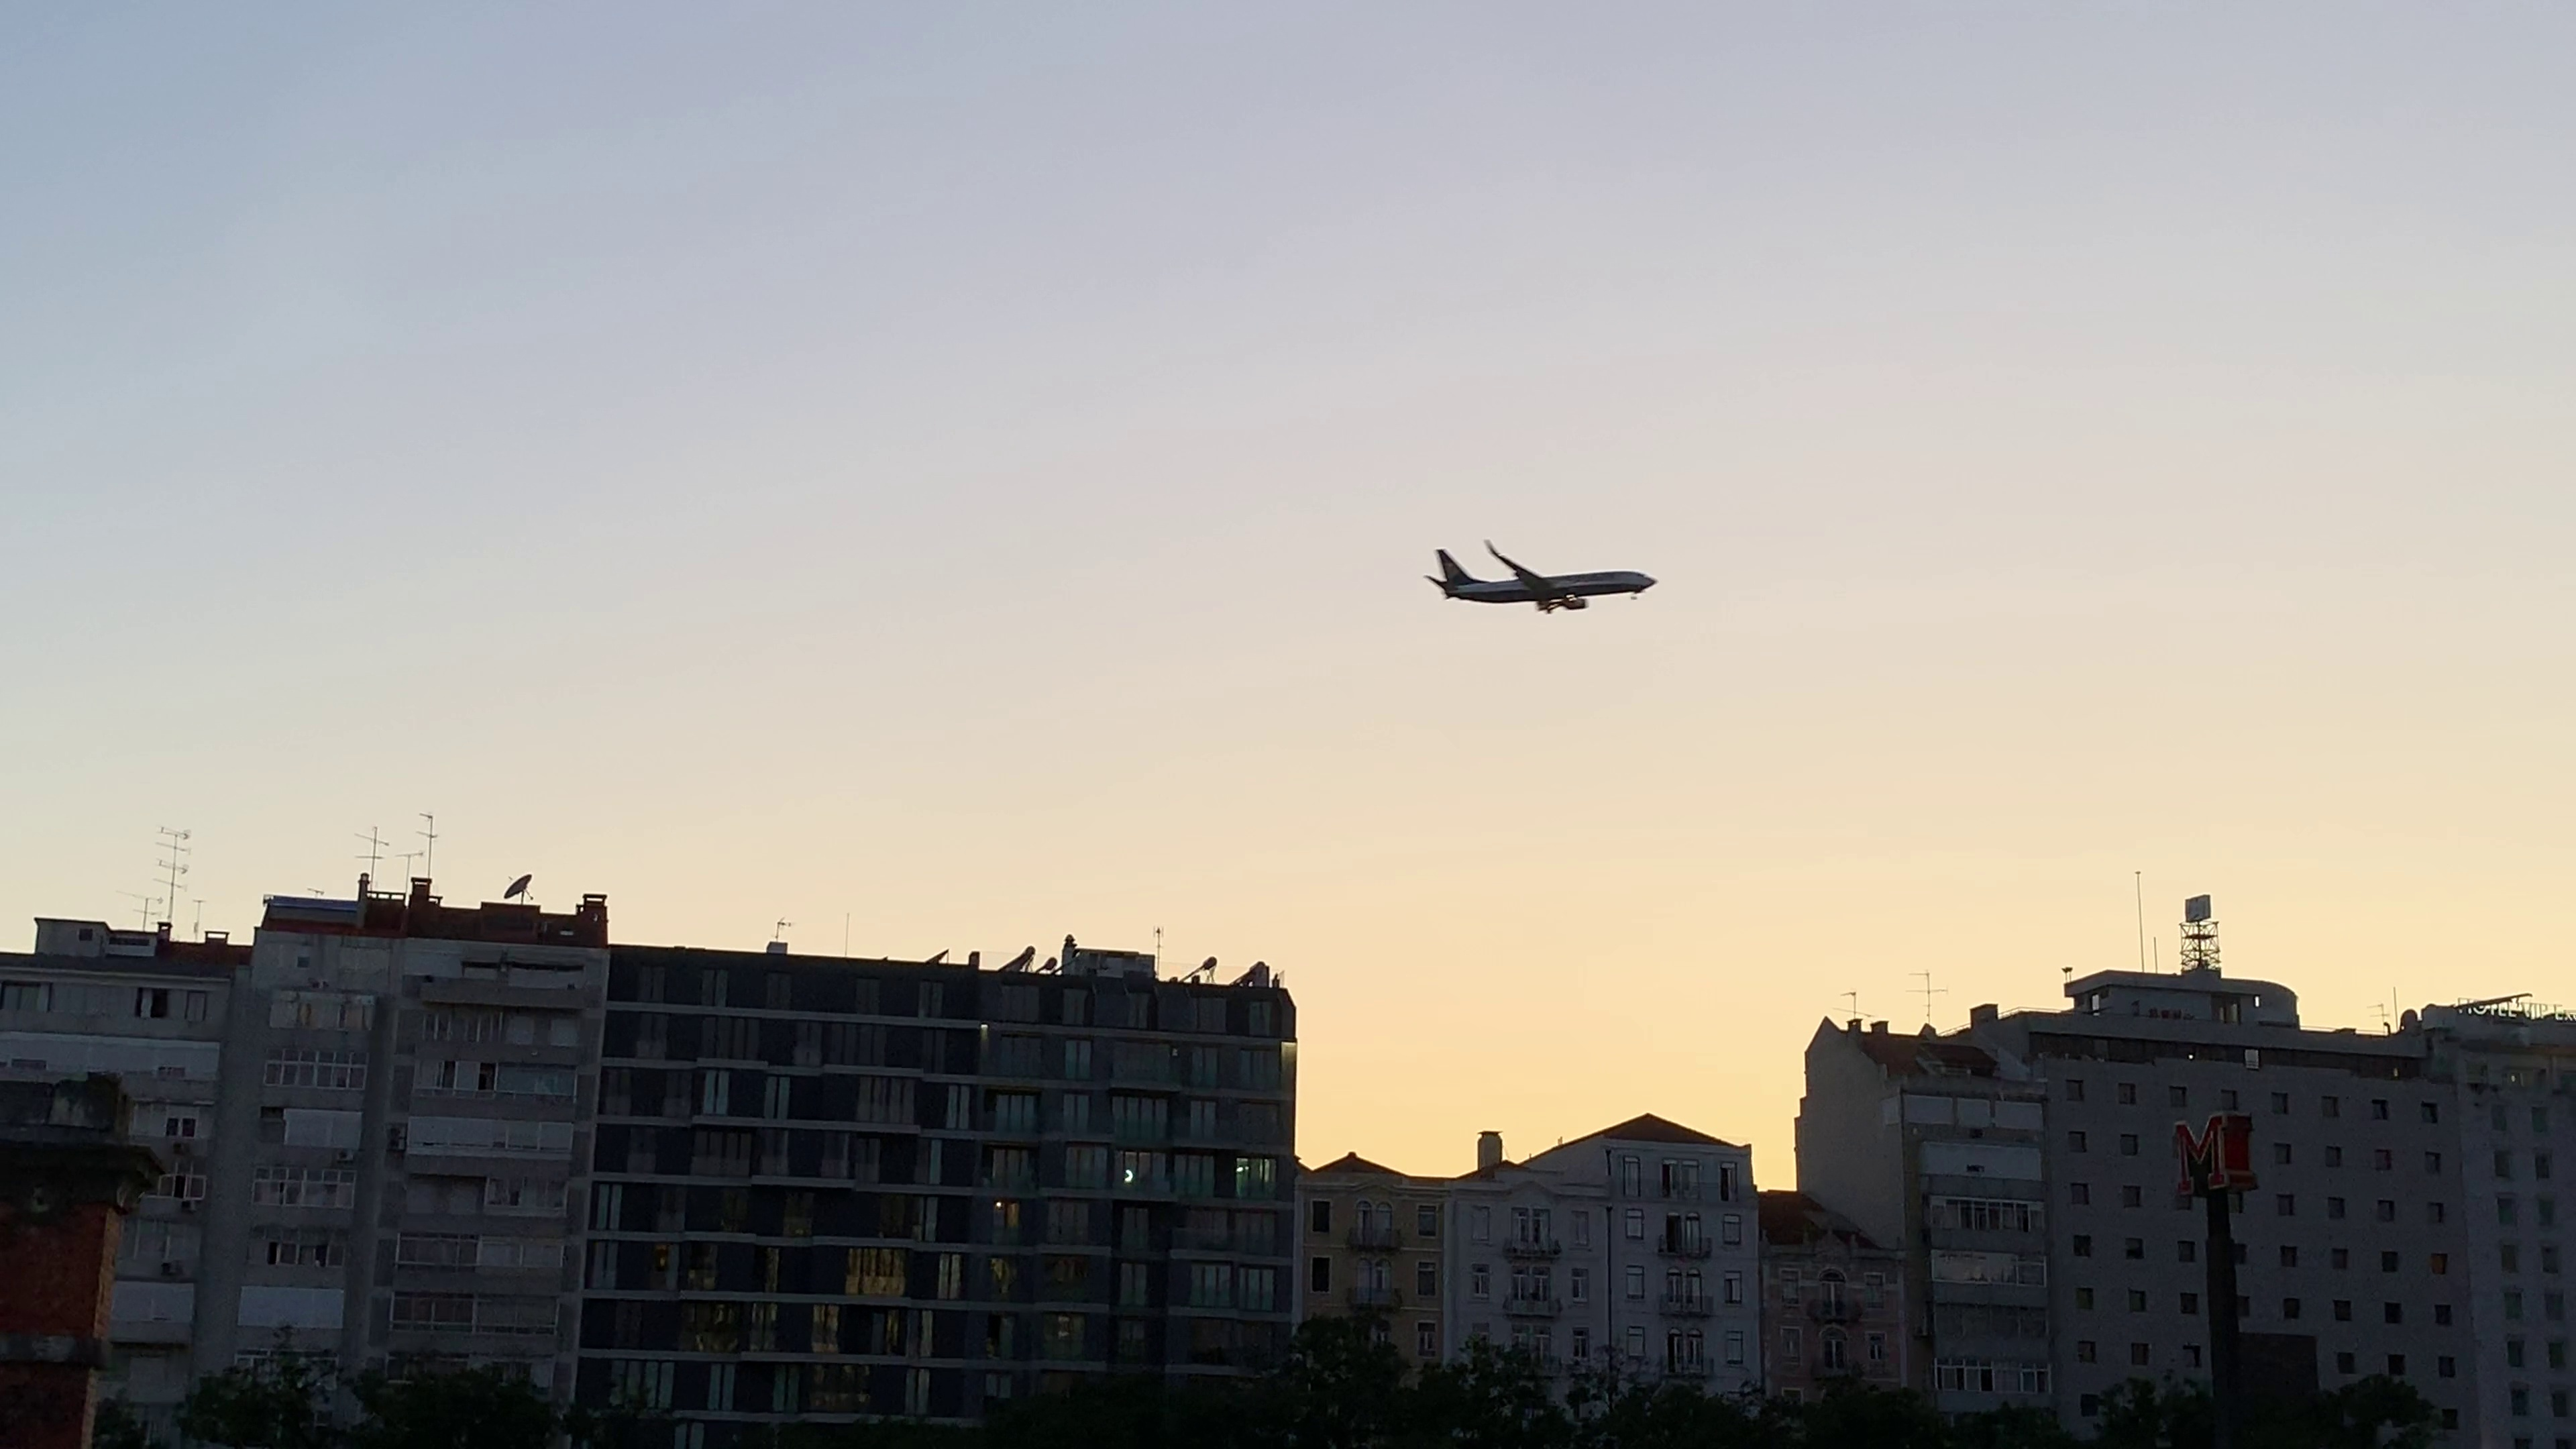plane: (1422, 545, 1660, 619)
